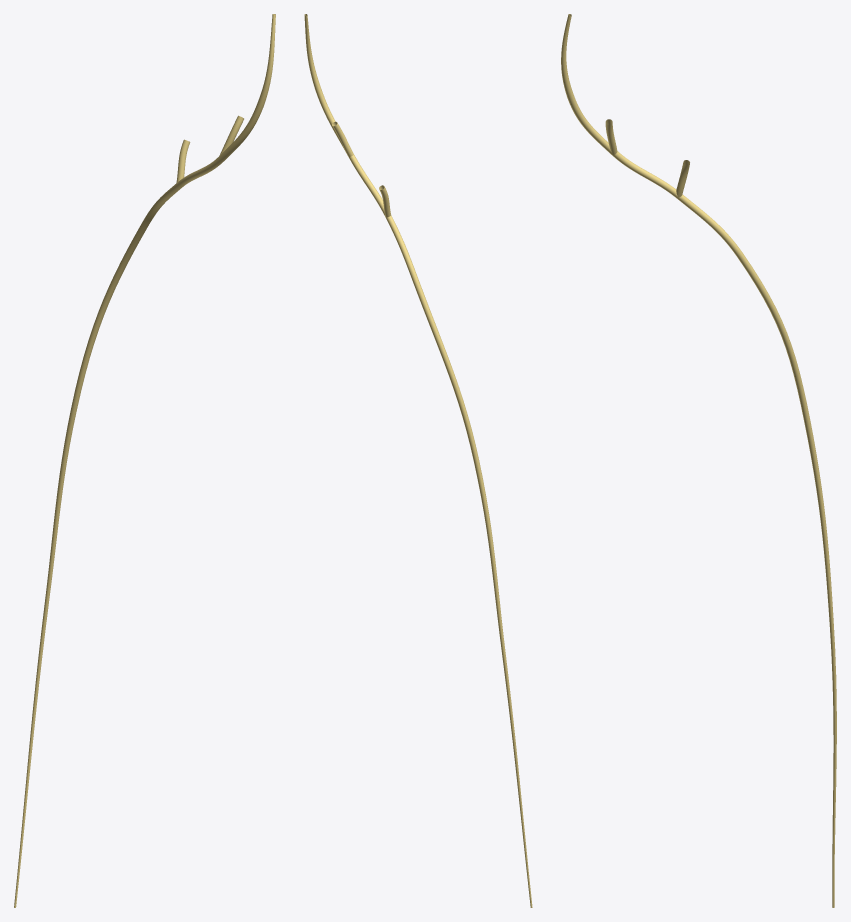
The picture shows the model from 3 angles, left to right: view 1: azimuth 30°, elevation 25°; view 2: azimuth 210°, elevation 25°; view 3: azimuth 270°, elevation 25°; orthographic projection. The views are drawn at different scales.
Parts seen in each view (by area): view 1: ZA_826b3276493ec436; view 2: ZA_826b3276493ec436; view 3: ZA_826b3276493ec436.
Part boxes in pixels (x1,y1,x2,y2): ZA_826b3276493ec436: [14, 14, 275, 907]; ZA_826b3276493ec436: [304, 14, 532, 907]; ZA_826b3276493ec436: [561, 14, 836, 907].
Size of the model in its own units: 0.0418 by 0.297 by 0.0778.
